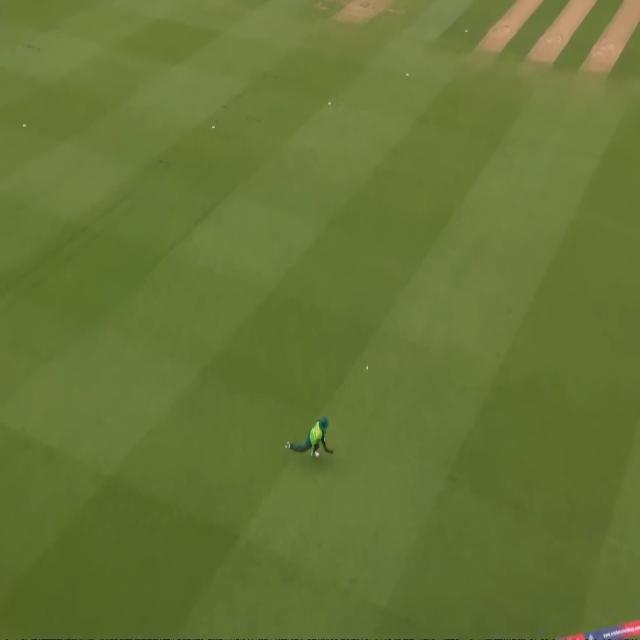ball: (363, 361, 373, 380)
